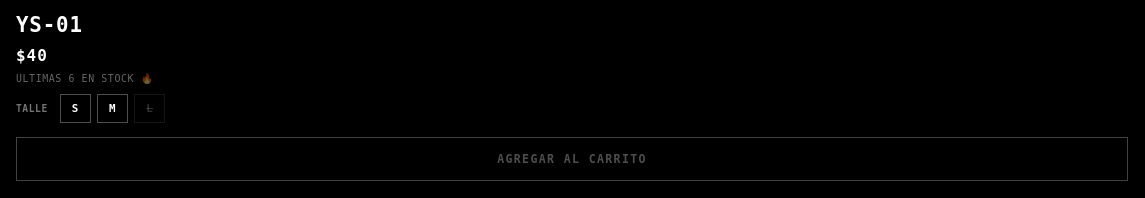
Test: ProductFeedInfo › seleccionar un talle habilita el botón agregar
Click the button with test id "size-S" at (75, 108), box 60,94 -> 91,123
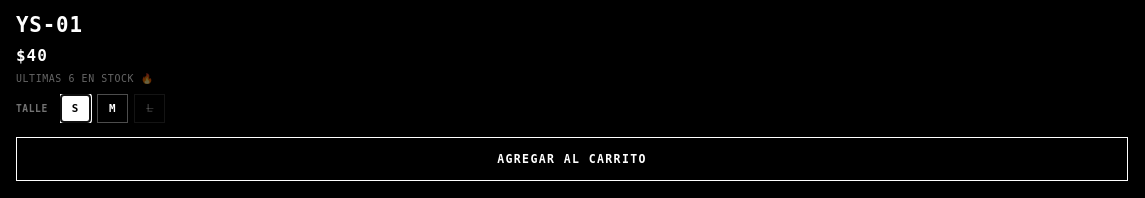
Expected: the button with test id "add-button" is enabled, 16,137 -> 1128,181
